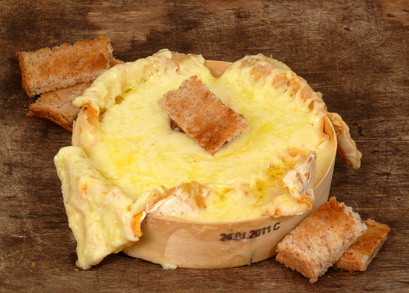camembert: (51, 47, 341, 276)
